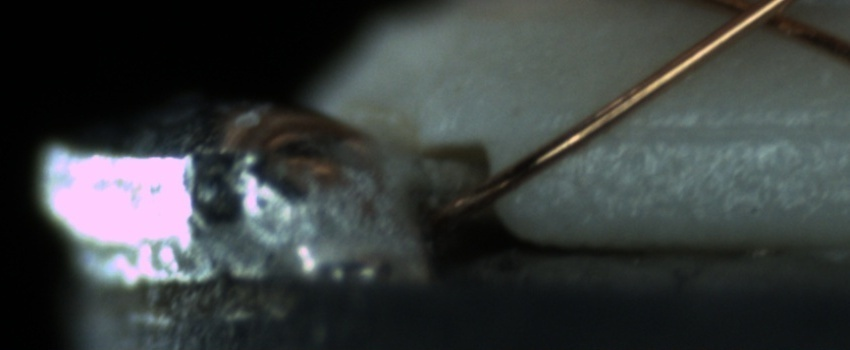CL: (704, 1, 816, 41)
DL: (603, 97, 850, 163)
